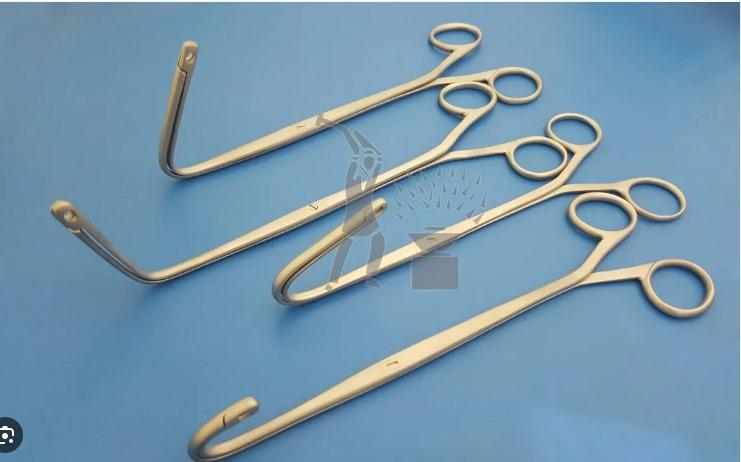Randall: (187, 192, 735, 462)
